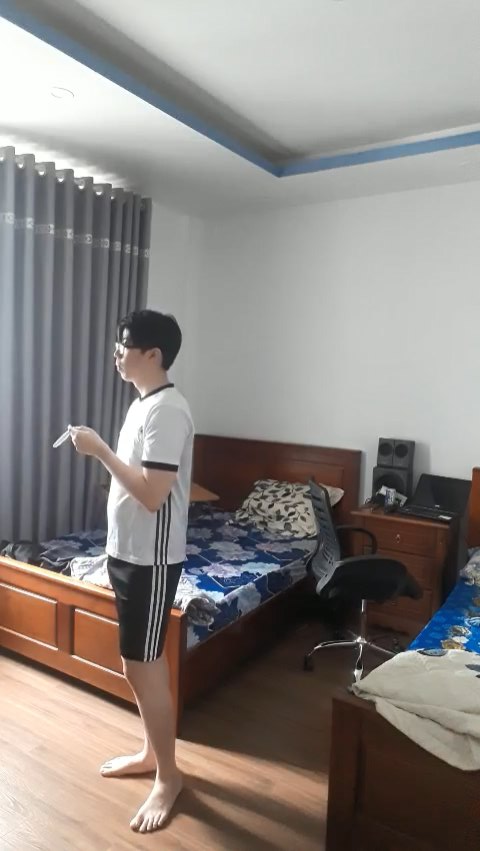cigarette: (49, 424, 71, 449)
person: (79, 304, 203, 843)
